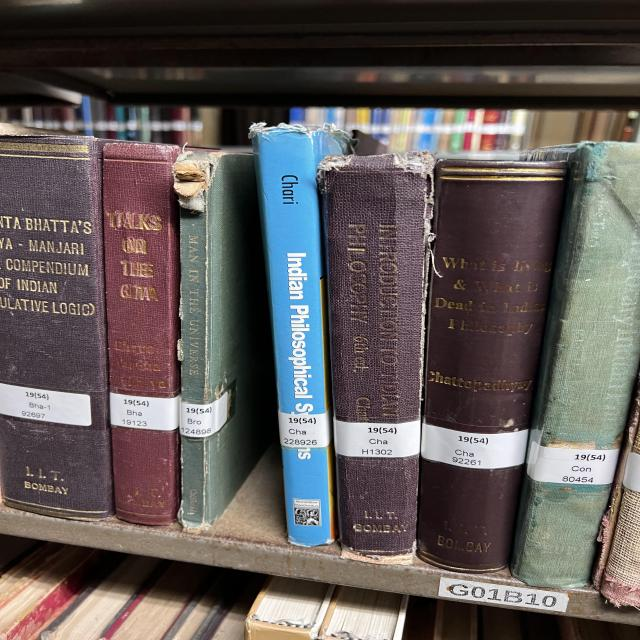Book: (418, 160, 567, 572), (510, 142, 640, 588), (318, 152, 435, 561), (0, 135, 113, 520), (250, 124, 352, 546), (178, 150, 273, 530), (103, 142, 182, 525)
Label: (422, 422, 528, 469), (527, 440, 618, 485), (0, 382, 92, 426), (333, 420, 420, 458), (110, 392, 180, 431), (180, 391, 228, 438), (278, 411, 332, 448)
